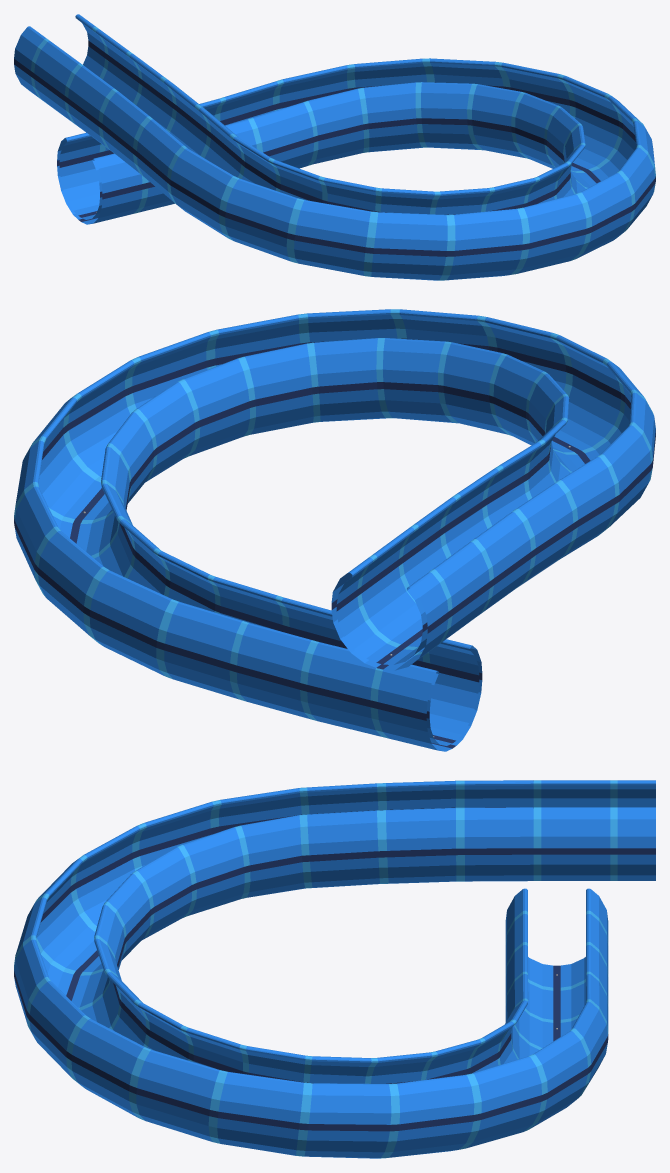
File: tunnel_90_S_L.fbx
3 renders of one model, top to bottom at view 1: azimuth 30°, elevation 25°; view 2: azimuth 150°, elevation 25°; view 3: azimuth 270°, elevation 25°, orthographic. The views are drawn at different scales.
Visible parts, largest first — view 1: tunnel_90_S_L; view 2: tunnel_90_S_L; view 3: tunnel_90_S_L.
Part boxes in pixels (<box>): tunnel_90_S_L: <box>14,14,655,280</box>; tunnel_90_S_L: <box>14,309,655,751</box>; tunnel_90_S_L: <box>14,780,655,1158</box>.
Size of the model in its own units: 10505 by 3621 by 11344.
2 materials, 1 textured.
